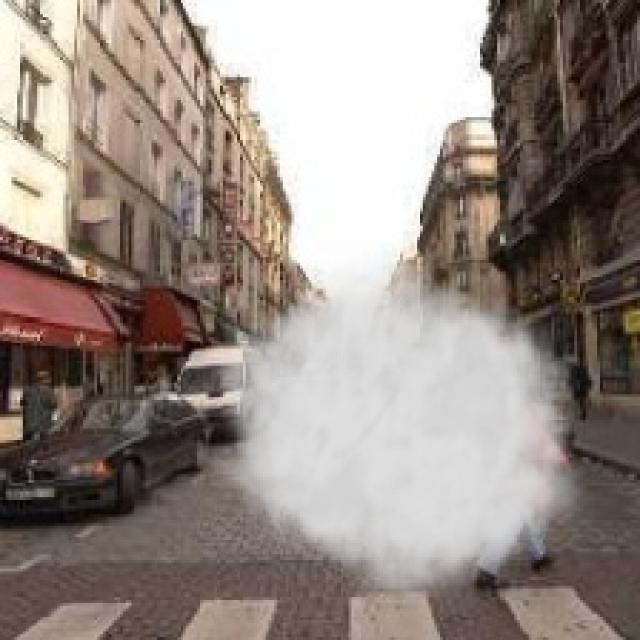smoke: (212, 243, 594, 608)
